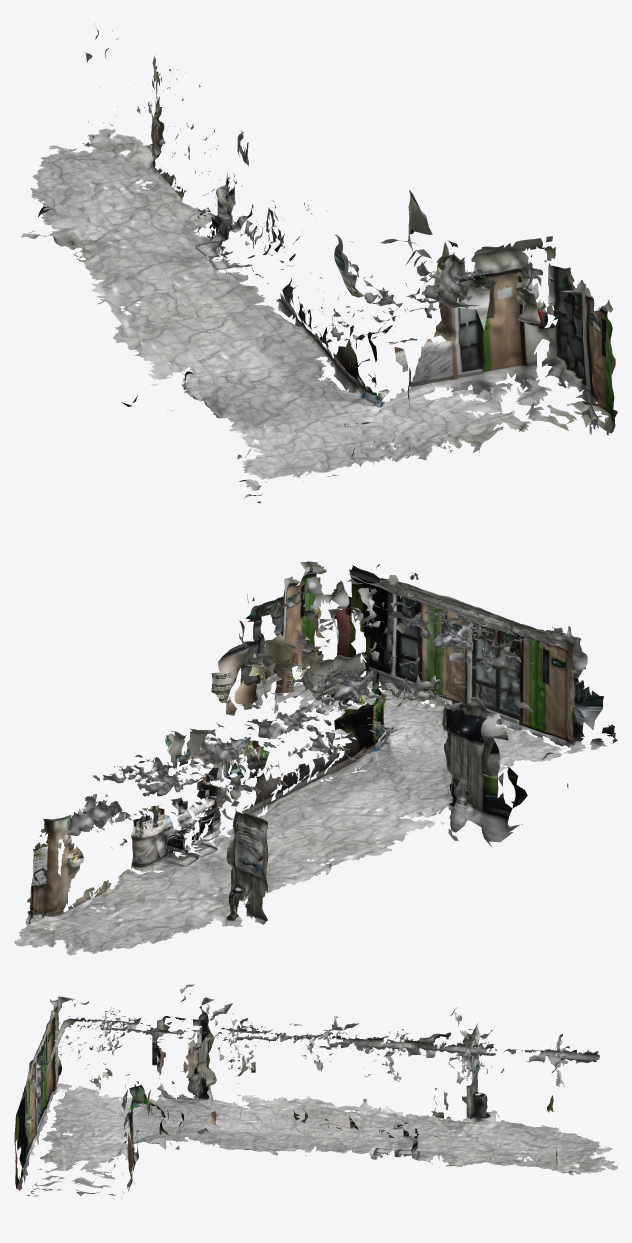
The model's file is 147560-tower6lorongfm-tex.glb.
The picture shows the model from 3 angles, top to bottom: view 1: azimuth 30°, elevation 25°; view 2: azimuth 150°, elevation 25°; view 3: azimuth 270°, elevation 25°; orthographic projection. The views are drawn at different scales.
Visible parts, largest first — view 1: Node; view 2: Node; view 3: Node.
Boxes of the visible parts, box(x1,y1,x2,y2) form: Node: box(21, 23, 617, 503); Node: box(14, 561, 617, 955); Node: box(14, 984, 617, 1199).
Bounding box in the file's own units: 8.33 × 4.28 × 15.56.
Materials: 21 (21 with a texture image).
